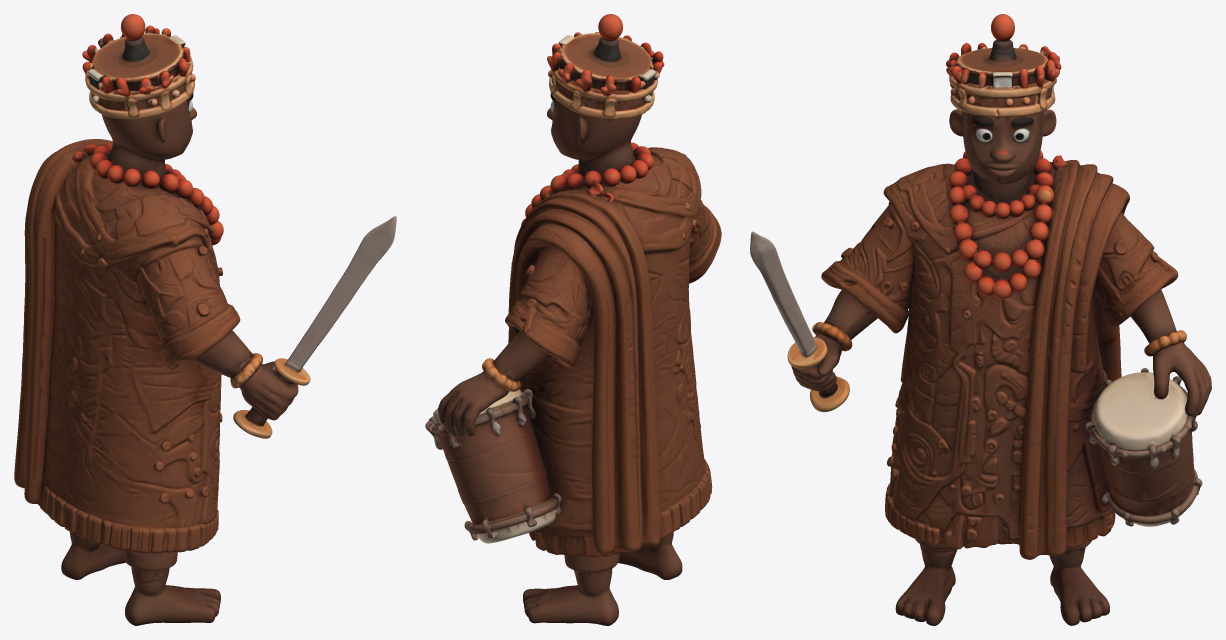
The model's file is ashipa.glb.
3 renders of one model, left to right at view 1: azimuth 30°, elevation 25°; view 2: azimuth 150°, elevation 25°; view 3: azimuth 270°, elevation 25°, orthographic.
Visible parts, largest first — view 1: tripo_node_b92f3bda-d2a9-48bd-b3a0-617cb0a0dd34; view 2: tripo_node_b92f3bda-d2a9-48bd-b3a0-617cb0a0dd34; view 3: tripo_node_b92f3bda-d2a9-48bd-b3a0-617cb0a0dd34.
Part boxes in pixels (<box>): tripo_node_b92f3bda-d2a9-48bd-b3a0-617cb0a0dd34: <box>14,14,396,625</box>; tripo_node_b92f3bda-d2a9-48bd-b3a0-617cb0a0dd34: <box>425,14,721,625</box>; tripo_node_b92f3bda-d2a9-48bd-b3a0-617cb0a0dd34: <box>750,14,1211,625</box>.
Size of the model in its own units: 0.3959 by 0.9999 by 0.7137.
1 material, 1 textured.
